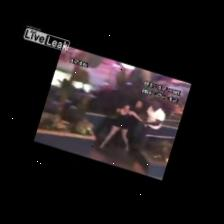person: (100, 105, 141, 151), (138, 102, 165, 152), (127, 117, 138, 143)
